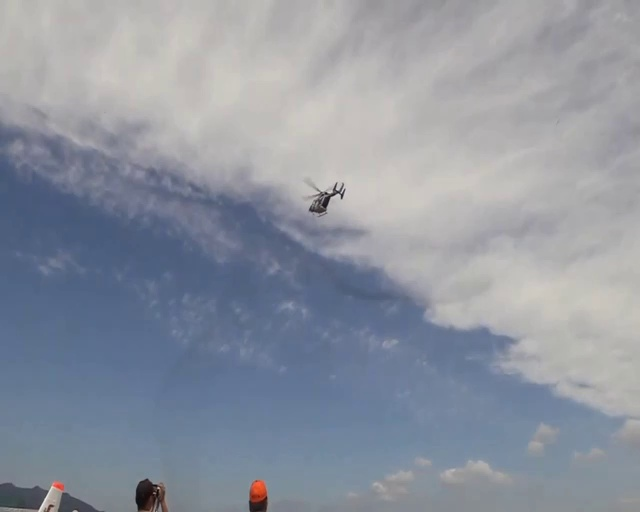HELICOPTER: (301, 177, 347, 217)
